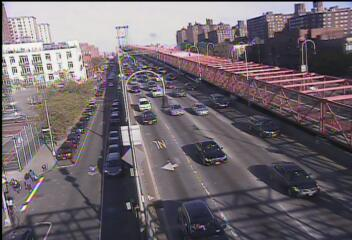neg: (290, 41, 321, 83), (88, 115, 118, 155), (271, 105, 296, 139), (219, 45, 244, 78), (192, 155, 216, 188), (186, 107, 210, 139), (29, 26, 52, 56), (130, 183, 153, 213), (135, 72, 156, 100), (32, 95, 53, 123), (279, 159, 300, 186), (71, 54, 90, 80), (241, 191, 259, 216), (255, 12, 271, 34), (116, 19, 132, 40), (150, 23, 165, 43), (66, 181, 81, 201)
pos: (19, 173, 31, 190)
